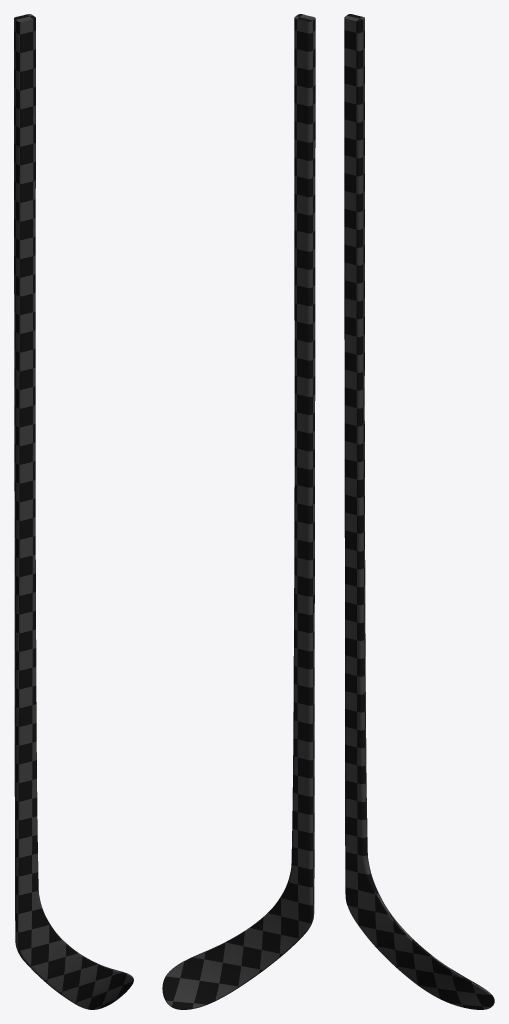
Rendered from P81-SBT.glb.
The picture shows the model from 3 angles, left to right: view 1: azimuth 30°, elevation 25°; view 2: azimuth 150°, elevation 25°; view 3: azimuth 330°, elevation 25°; orthographic projection. The views are drawn at different scales.
Visible parts, largest first — view 1: geometry_0; view 2: geometry_0; view 3: geometry_0.
Part boxes in pixels (box(x1,y1,x2,y2)): geometry_0: box(14, 14, 133, 1009); geometry_0: box(162, 14, 315, 1009); geometry_0: box(344, 14, 494, 1009).
Bounding box in the file's own units: 227 × 1650 × 81.5.
1 material, 1 textured.
